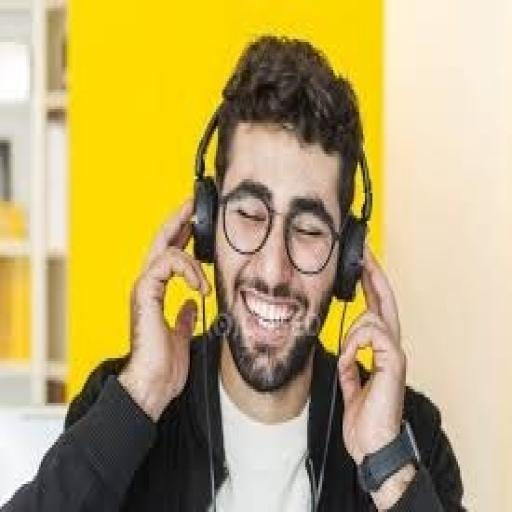listening_to_music: (0, 31, 469, 509)
